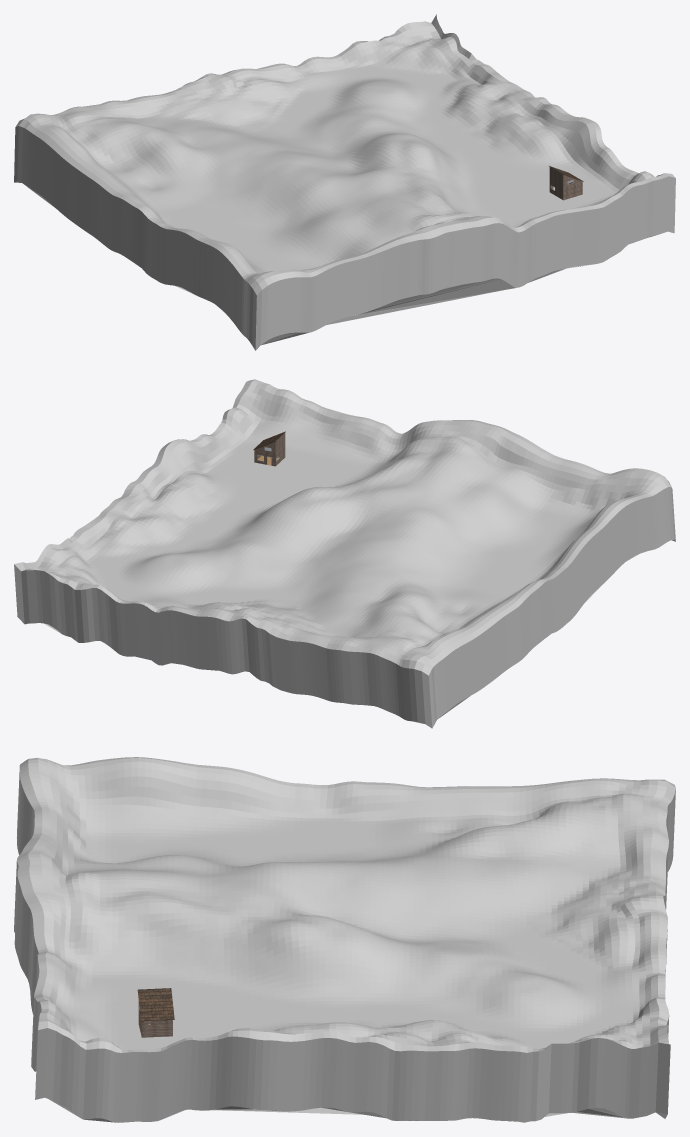
Rendered from floor.gltf.
3 renders of one model, top to bottom at view 1: azimuth 30°, elevation 25°; view 2: azimuth 150°, elevation 25°; view 3: azimuth 270°, elevation 25°, orthographic. The views are drawn at different scales.
Parts seen in each view (by area): view 1: Grid; view 2: Grid; view 3: Grid, attic, first floor.
Part boxes in pixels (bbox=[...]): Grid: bbox=[14, 14, 675, 350]; Grid: bbox=[14, 379, 675, 728]; Grid: bbox=[14, 757, 675, 1122]; attic: bbox=[137, 988, 174, 1021]; first floor: bbox=[138, 1007, 172, 1037].
Size of the model in its own units: 105 by 21.35 by 105.
